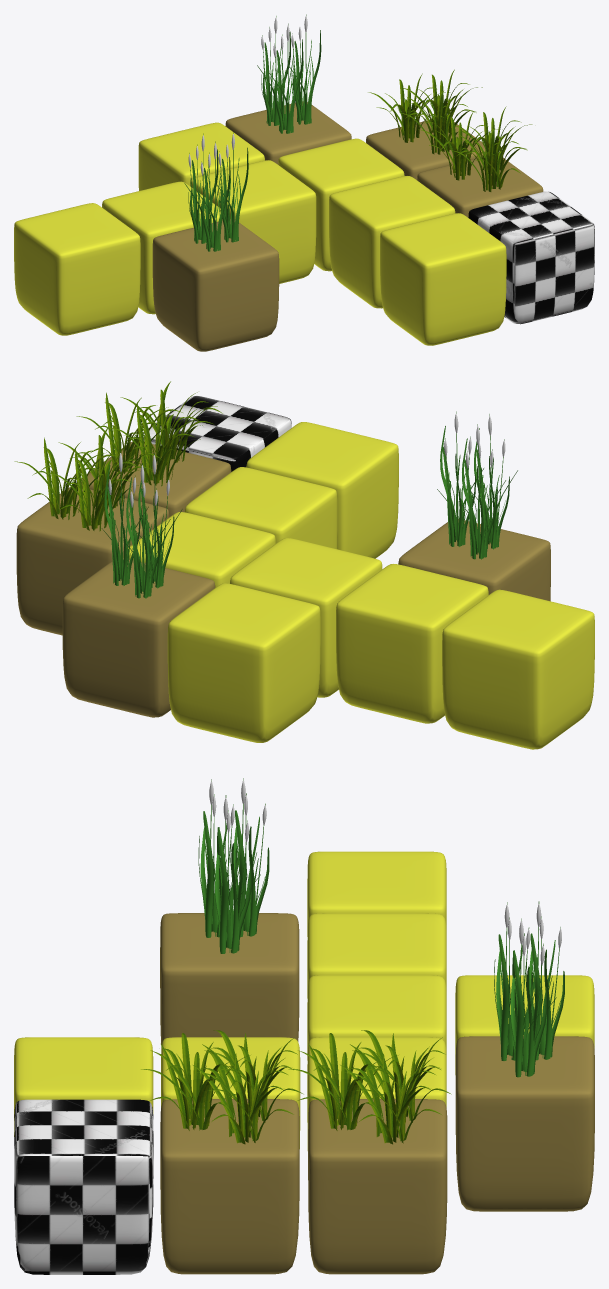
The model's file is Level3_base.glb.
The picture shows the model from 3 angles, top to bottom: view 1: azimuth 30°, elevation 25°; view 2: azimuth 150°, elevation 25°; view 3: azimuth 270°, elevation 25°; orthographic projection. The views are drawn at different scales.
Visible parts, largest first — view 1: Cube.002, Cube.006, Cube.007, Cube.005, Cube.011, Cube.003, Cube.010, Cube.012, plant_3, plant_3.001, Cube.001, Cube.004 (+3 smaller); view 2: Cube.002, Cube.012, Cube.001, Cube.006, Cube.008, Cube.003, Cube.011, Cube.007, Cube.010, Cube.005, plant_3, plant_3.001 (+3 smaller); view 3: Cube.005, Cube.001, Cube.004, Cube.008, Cube.002, Cube.007, Cube.006, Cube.003, High Grass.003, High Grass.001, plant_3.001, plant_3 (+3 smaller).
Boxes of the visible parts, x1,y1,x2,y2 form: Cube.002: (14, 181, 222, 335); Cube.006: (380, 213, 506, 345); Cube.007: (152, 219, 279, 351); Cube.005: (468, 191, 594, 324); Cube.011: (329, 176, 455, 308); Cube.003: (190, 160, 316, 283); Cube.010: (278, 138, 404, 271); Cube.012: (138, 122, 264, 190); plant_3: (257, 14, 321, 133); plant_3.001: (184, 132, 248, 251); Cube.001: (225, 101, 351, 164); Cube.004: (417, 157, 543, 217); Cube.002: (336, 564, 594, 749); Cube.012: (167, 583, 320, 742); Cube.001: (62, 558, 215, 717); Cube.006: (246, 422, 398, 558); Cube.008: (16, 487, 169, 635); Cube.003: (230, 538, 382, 697); Cube.011: (184, 467, 337, 548); Cube.007: (398, 519, 550, 601); Cube.010: (123, 512, 275, 587); Cube.005: (143, 396, 291, 471); plant_3: (101, 451, 182, 598); plant_3.001: (437, 411, 517, 559); Cube.005: (14, 1099, 153, 1274); Cube.001: (455, 1036, 594, 1211); Cube.004: (160, 1099, 299, 1274); Cube.008: (308, 1099, 447, 1274); Cube.002: (307, 851, 446, 998); Cube.007: (160, 913, 299, 1047); Cube.006: (14, 1037, 153, 1136); Cube.003: (307, 975, 446, 1060); High Grass.003: (288, 1030, 451, 1144); High Grass.001: (141, 1030, 303, 1144); plant_3.001: (198, 778, 269, 953); plant_3: (494, 901, 564, 1077).
Size of the model in its own units: 14.54 by 6.17 by 11.5.
Materials: 6 (2 with a texture image).
